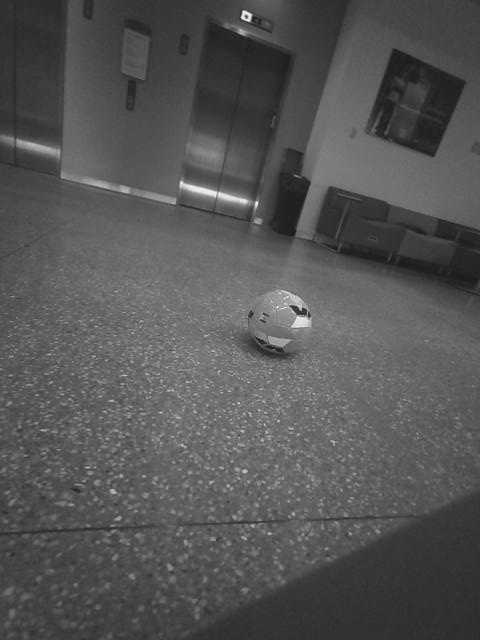ball: (2, 153, 27, 179)
